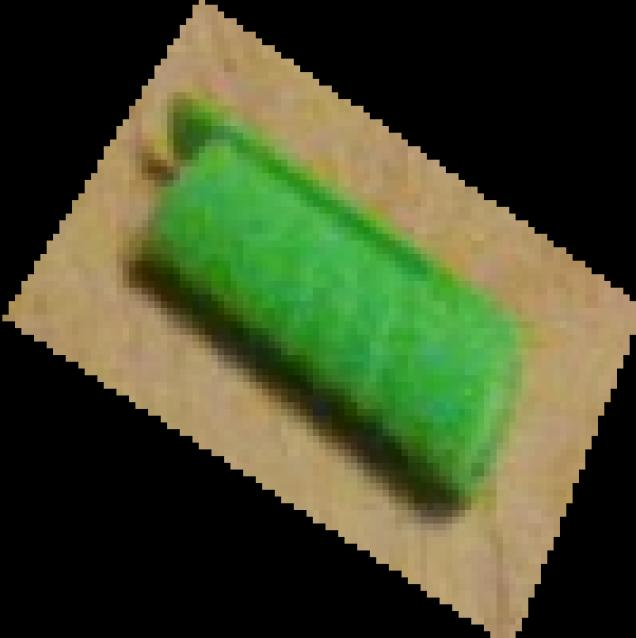green: (1, 1, 636, 638)
